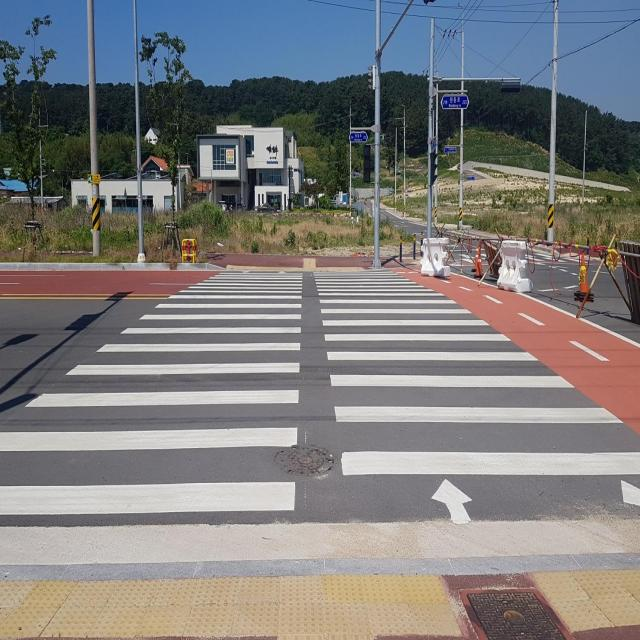횡단보도: (0, 268, 640, 527)
